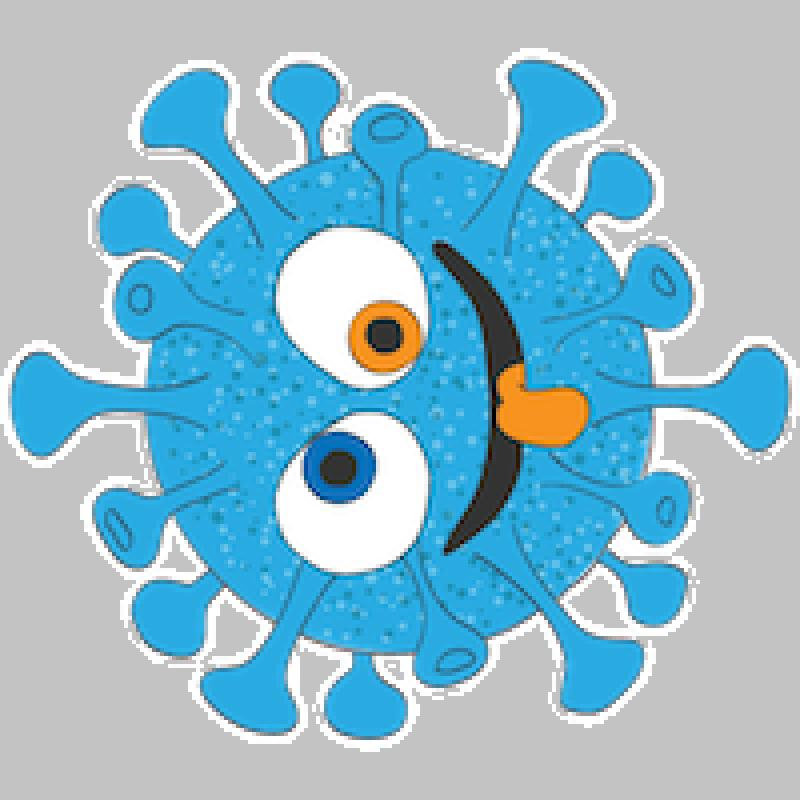corona3: (0, 0, 796, 796)
